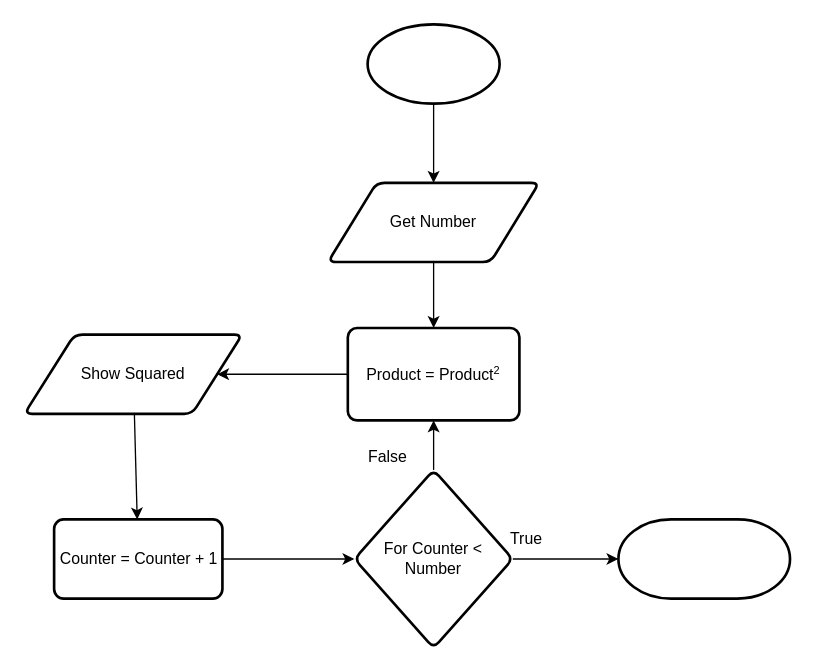
This 813x672 diagram has some shape labels left out. Each missing label, with the box of its shape:
Start: (366, 22, 500, 104)
Stop: (616, 517, 791, 599)
